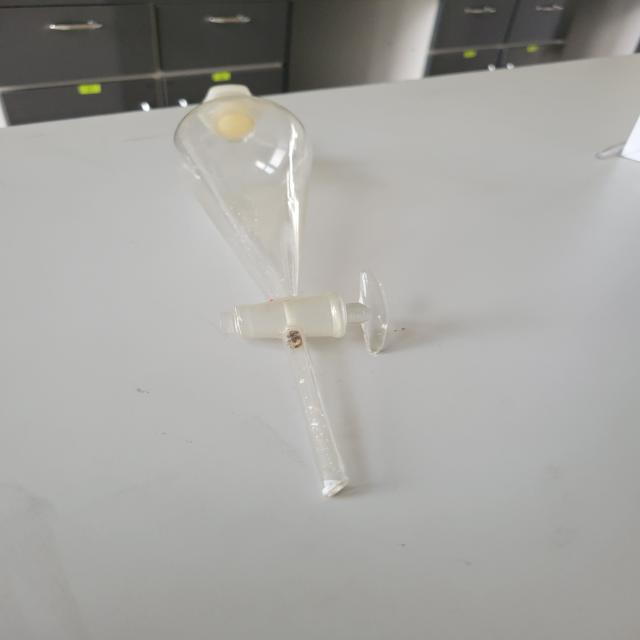Separating_Funnel: (140, 37, 448, 512)
